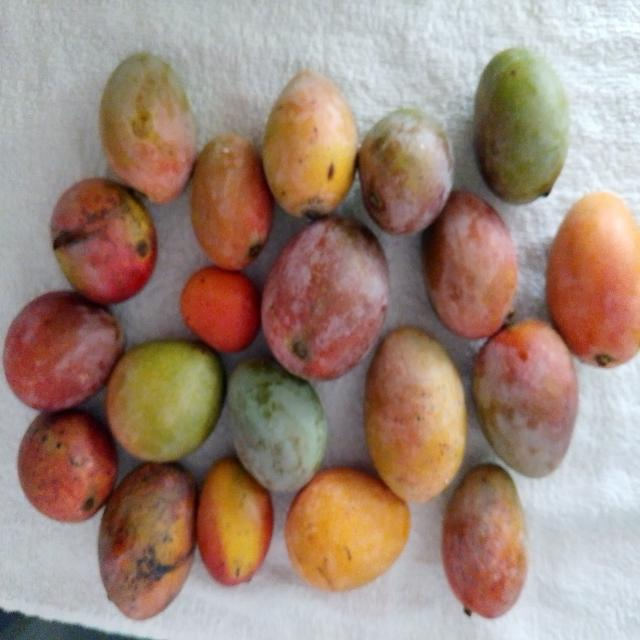mango: (259, 210, 390, 382), (363, 326, 467, 505), (546, 188, 640, 372), (107, 338, 227, 466), (99, 49, 198, 204), (421, 188, 519, 340), (472, 46, 565, 206), (50, 177, 160, 307), (441, 459, 527, 618), (267, 70, 358, 216), (356, 106, 455, 234), (189, 132, 273, 270)
